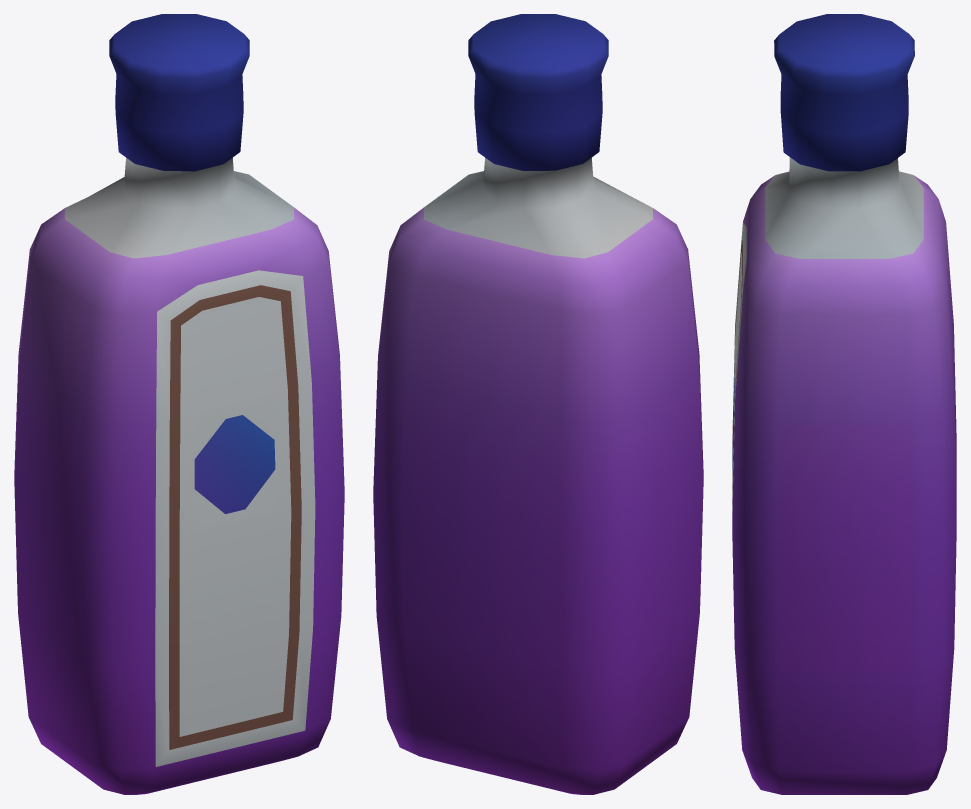
Rendered from bottle_010.fbx.
3 views of the same model, side by side, from view 1: azimuth 30°, elevation 25°; view 2: azimuth 150°, elevation 25°; view 3: azimuth 270°, elevation 25° (orthographic).
Visible parts, largest first — view 1: bottle_010; view 2: bottle_010; view 3: bottle_010.
Part boxes in pixels (x1,y1,x2,y2): bottle_010: (14,14,344,794); bottle_010: (373,14,703,794); bottle_010: (732,14,956,794).
Bounding box in the file's own units: 10.94 × 8.14 × 28.51.
